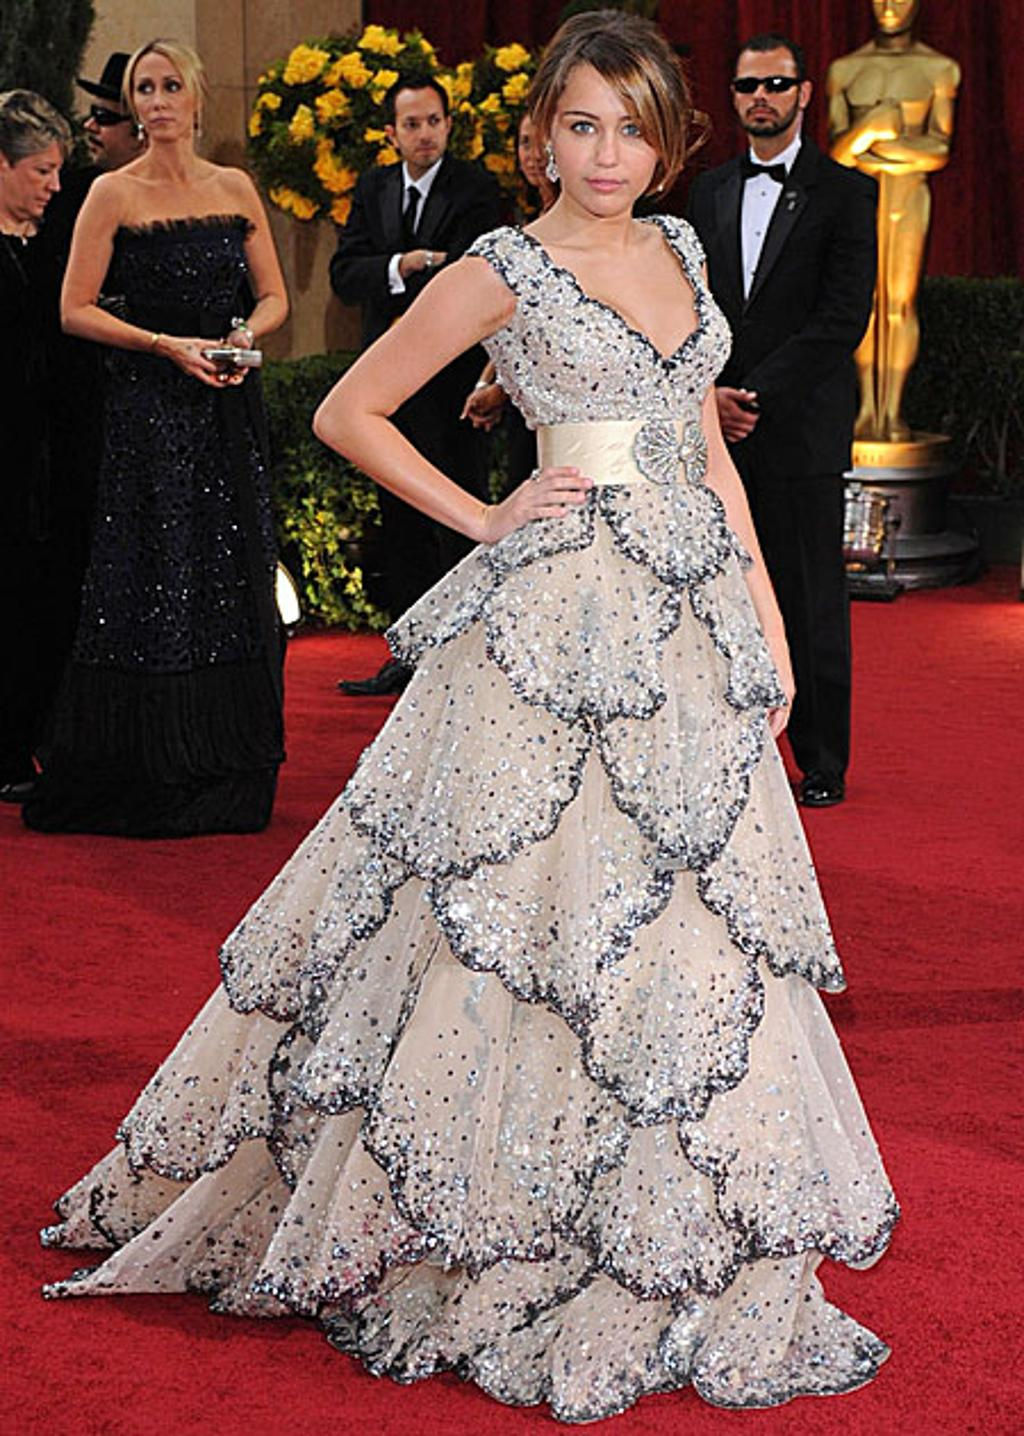face: (552, 68, 660, 215), (132, 55, 195, 138), (735, 58, 797, 134), (3, 147, 61, 219), (86, 93, 138, 165), (394, 100, 447, 165), (520, 117, 557, 184)
